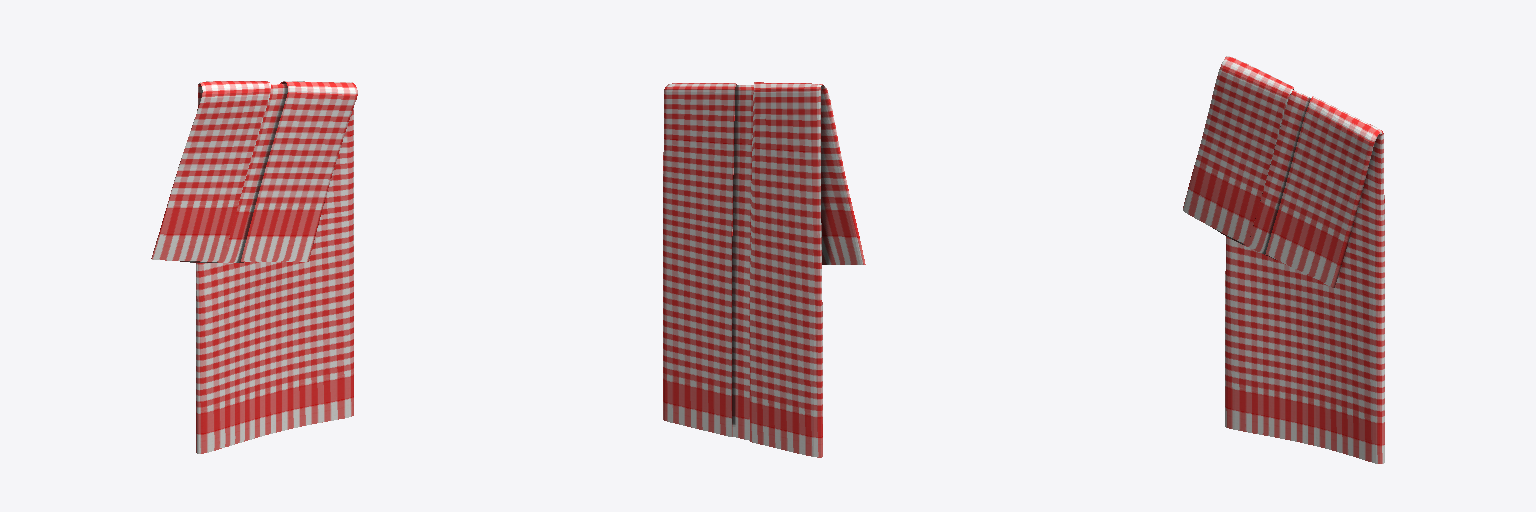
3 views of the same model, side by side, from view 1: azimuth 30°, elevation 25°; view 2: azimuth 150°, elevation 25°; view 3: azimuth 330°, elevation 25° (orthographic).
Visible parts, largest first — view 1: 10283_Dish_Towel; view 2: 10283_Dish_Towel; view 3: 10283_Dish_Towel.
Boxes of the visible parts, box(x1,y1,x2,y2) form: 10283_Dish_Towel: box(151, 81, 357, 453); 10283_Dish_Towel: box(663, 82, 865, 457); 10283_Dish_Towel: box(1183, 56, 1384, 463).
Bounding box in the file's own units: 10.18 × 17.84 × 0.8862.
1 materials, 1 textured.